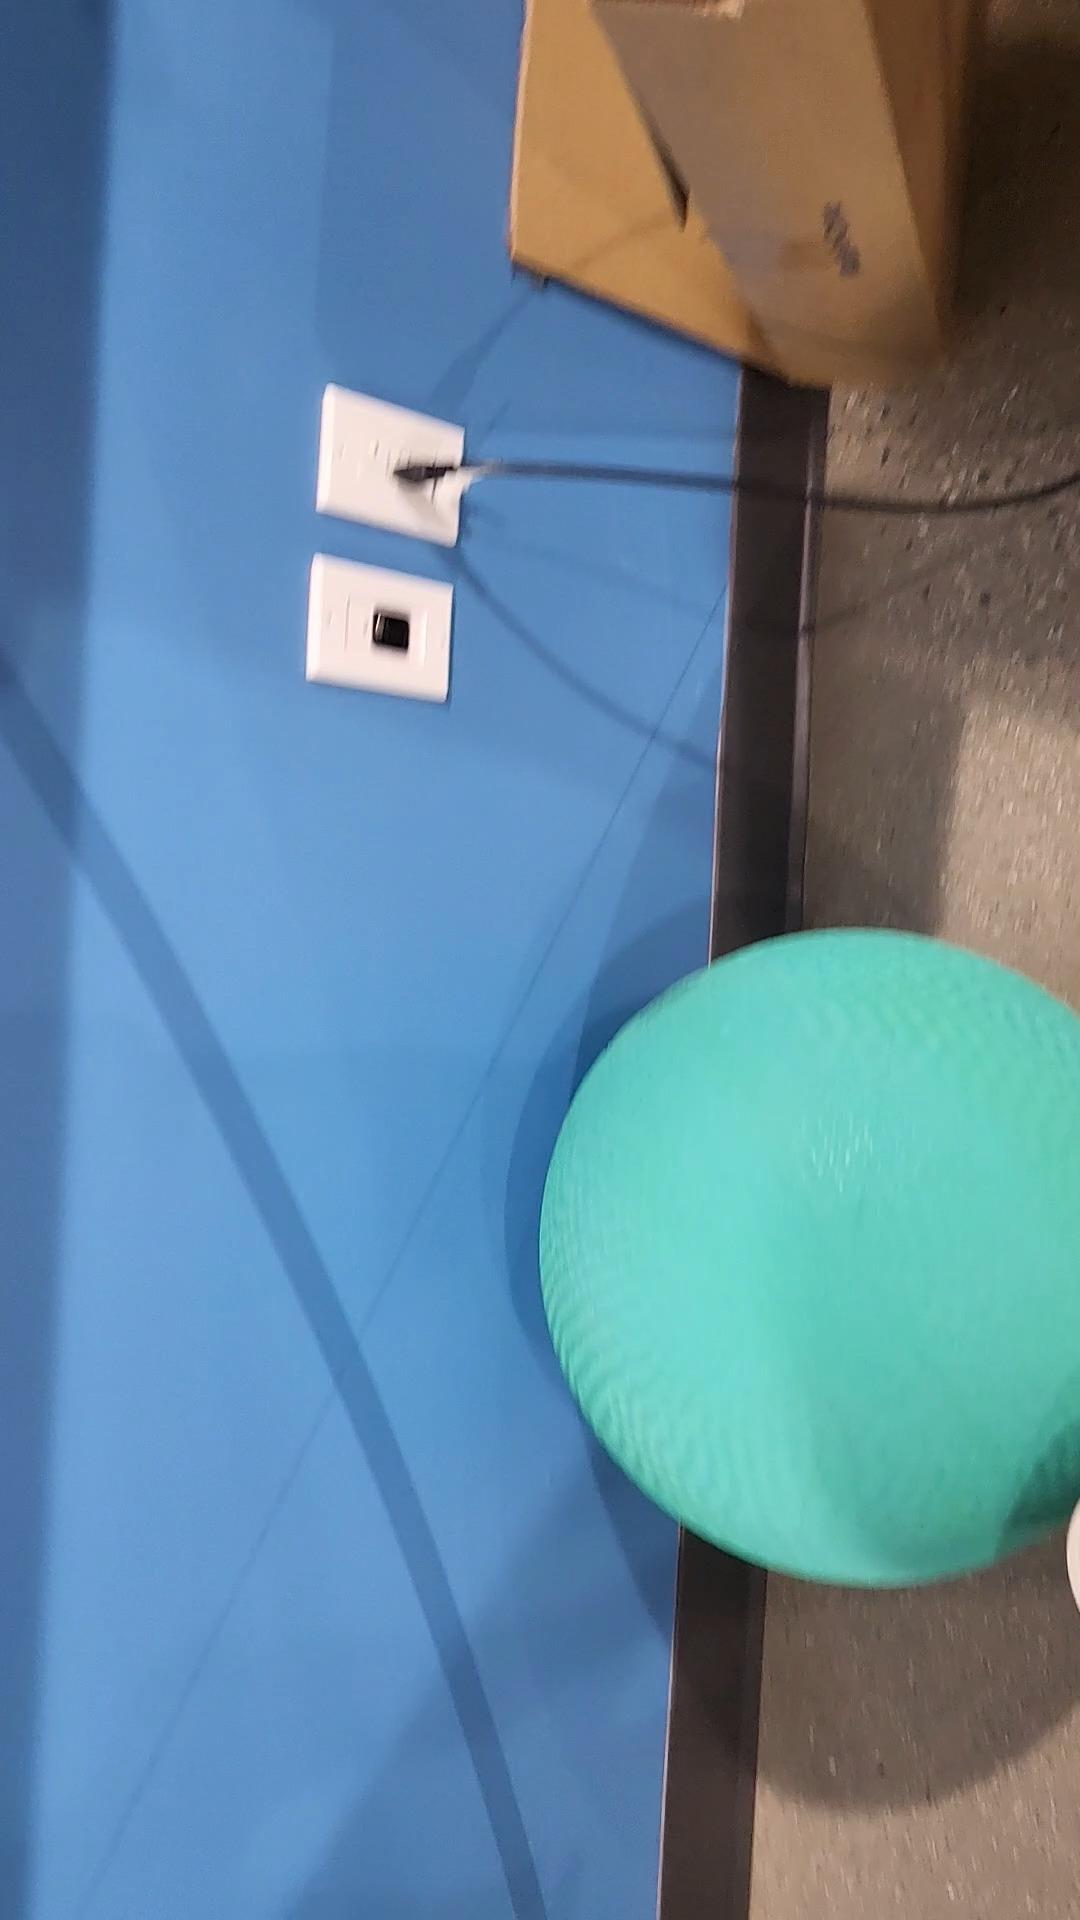algae: (541, 927, 1080, 1588)
